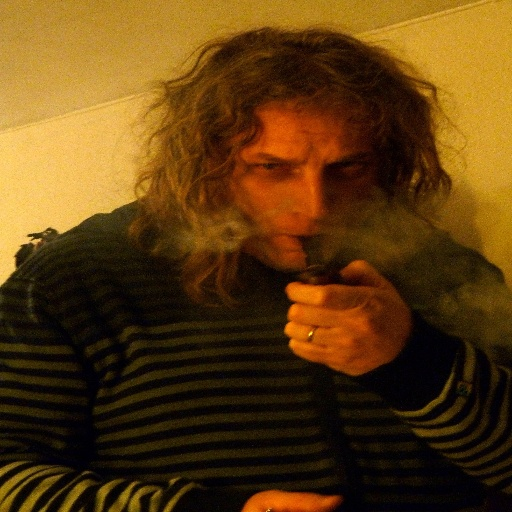hand: (272, 269, 403, 371), (240, 489, 340, 511)
